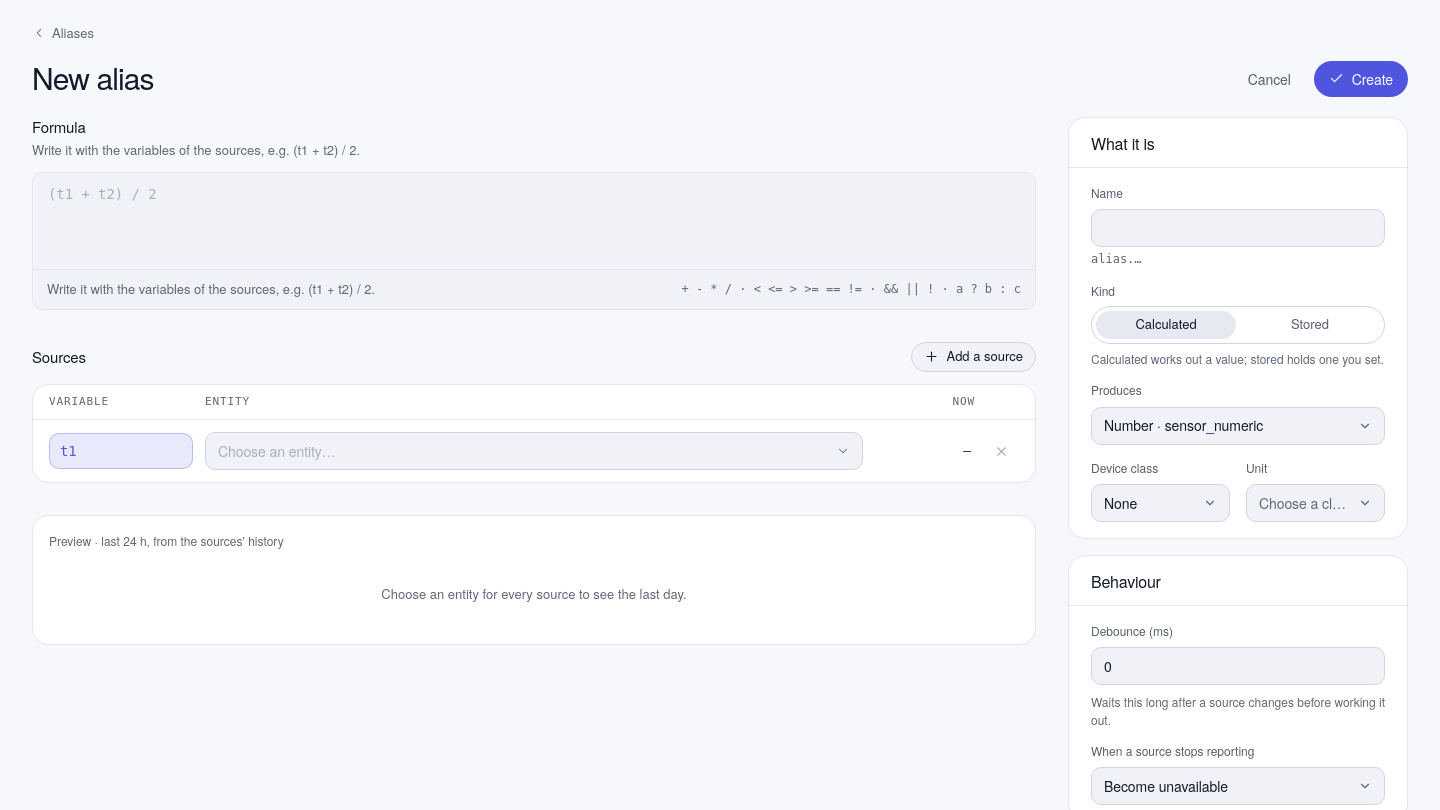
Scenario: AliasEditor › shows New alias with a derived id caption and no Enabled control
This screenshot has width=1440, height=810.
Expected: the heading "New alias" is shown, [32, 61, 154, 95]
Expected: the text "alias.…" is shown, [1091, 252, 1142, 266]
Type "Hall average" into the field labelled "Name" at (1238, 228), box [1091, 209, 1385, 247]
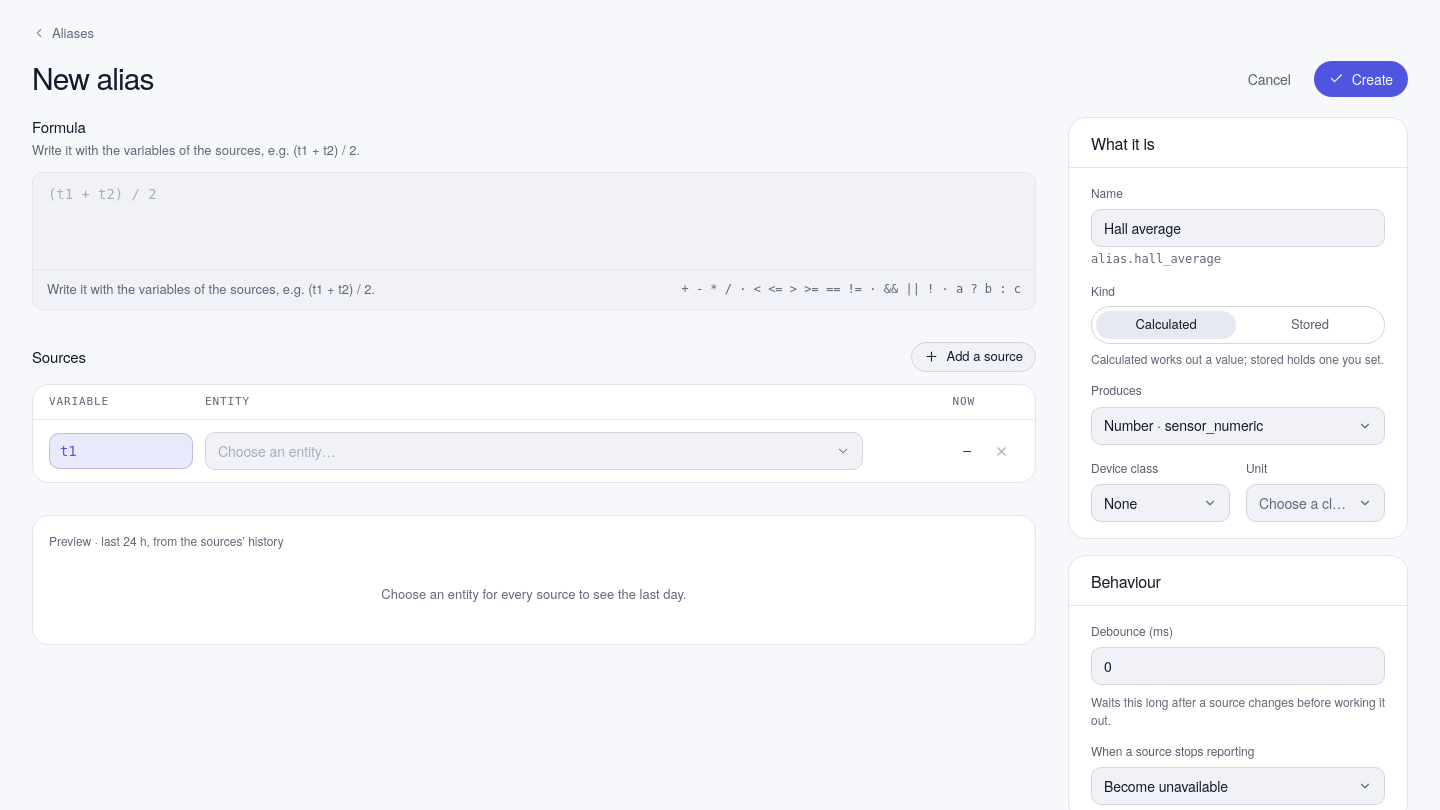
Expected: the text box named "Formula" is shown, [33, 173, 1035, 269]
Expected: the text "alias.hall_average" is shown, [1091, 252, 1221, 266]
